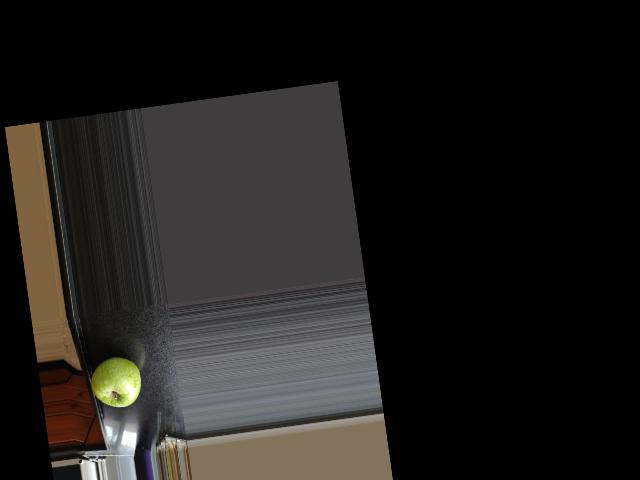apple: (86, 350, 147, 413)
